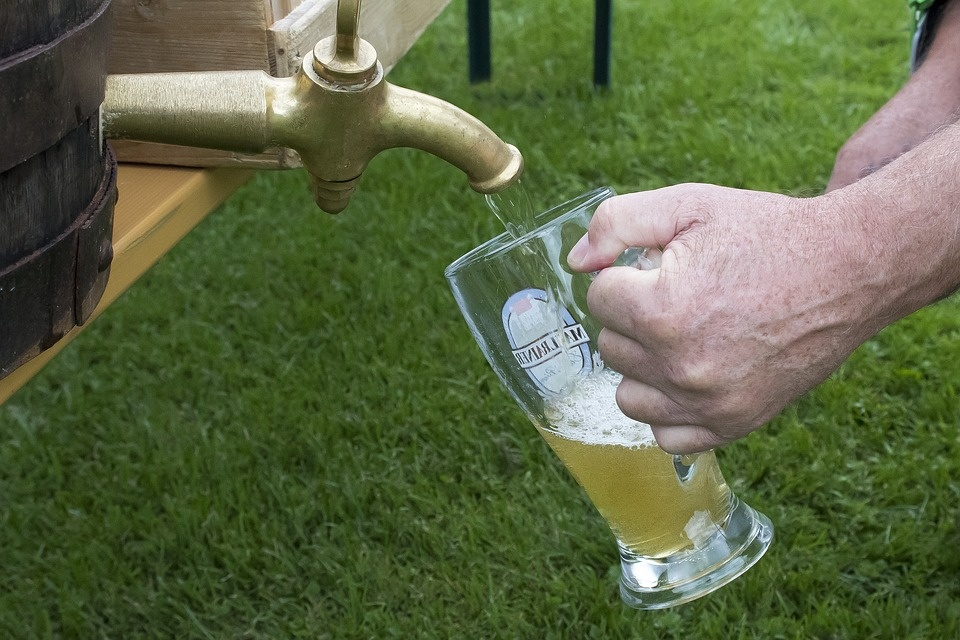glassBeer: (442, 180, 771, 591)
